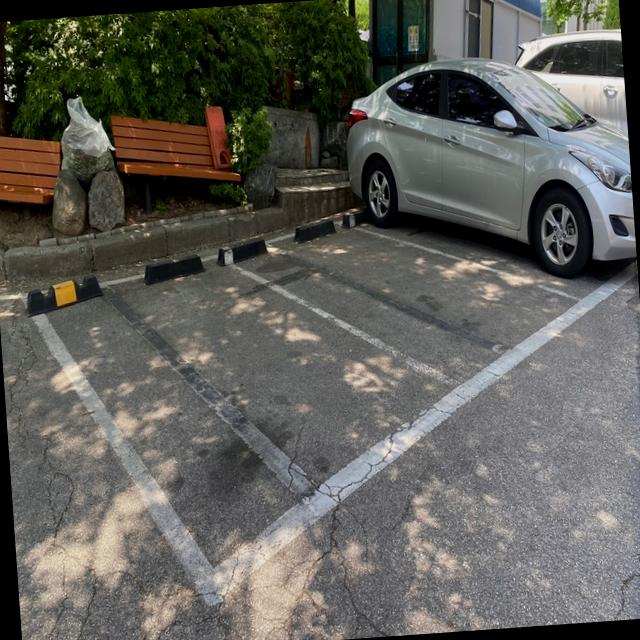free: (23, 249, 480, 608), (214, 216, 599, 403)
